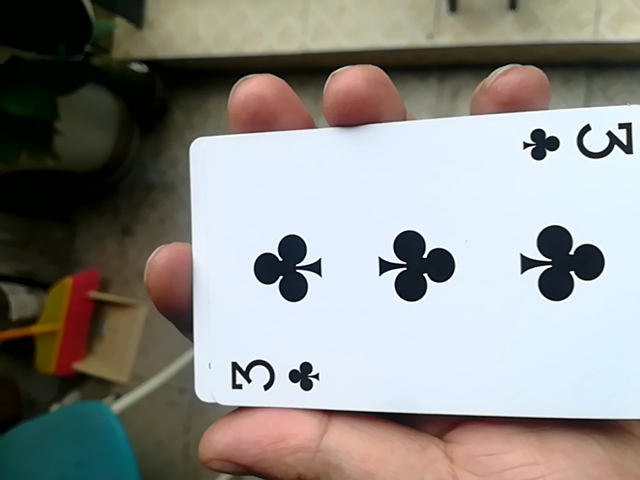mh 3: (165, 109, 637, 428)
